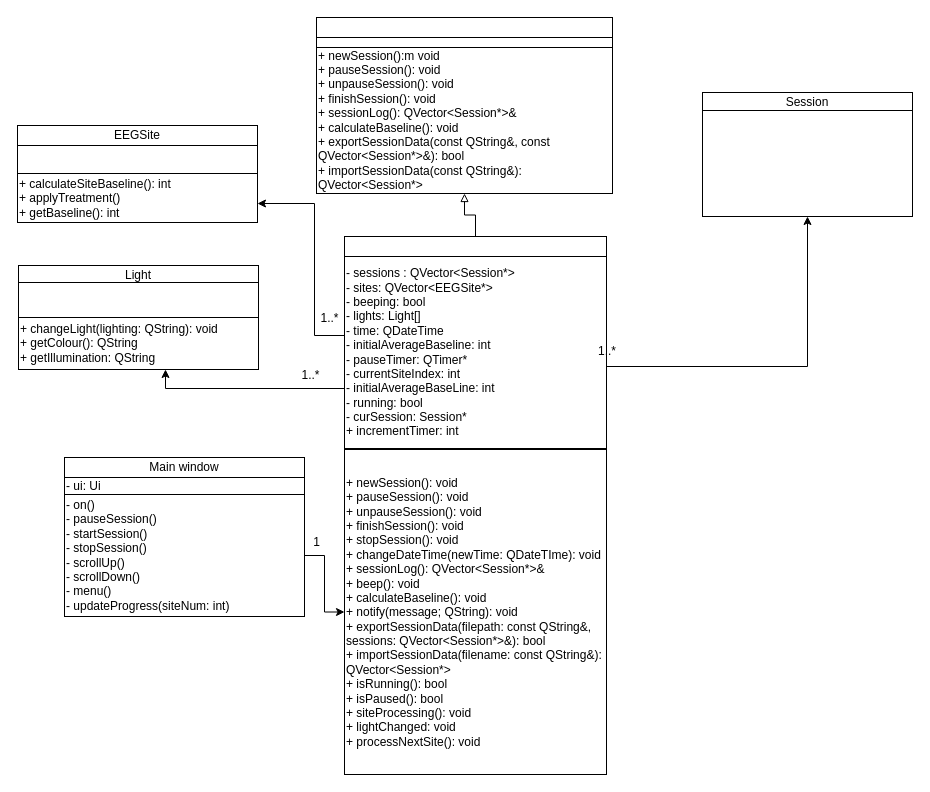
This 930x792 diagram has some shape labels left out. Here are the shapes that lost their labels. From the top down, the centre of each, then its label:
pixel 464 27: Mediator
pixel 137 159: - siteBaseline: int
pixel 807 163: - startBaseline: int - endBaseline: int - progress: int - dateTime: QDateTime
pixel 475 246: Neureset
pixel 138 301: - colour: QString - Illumination: QString
